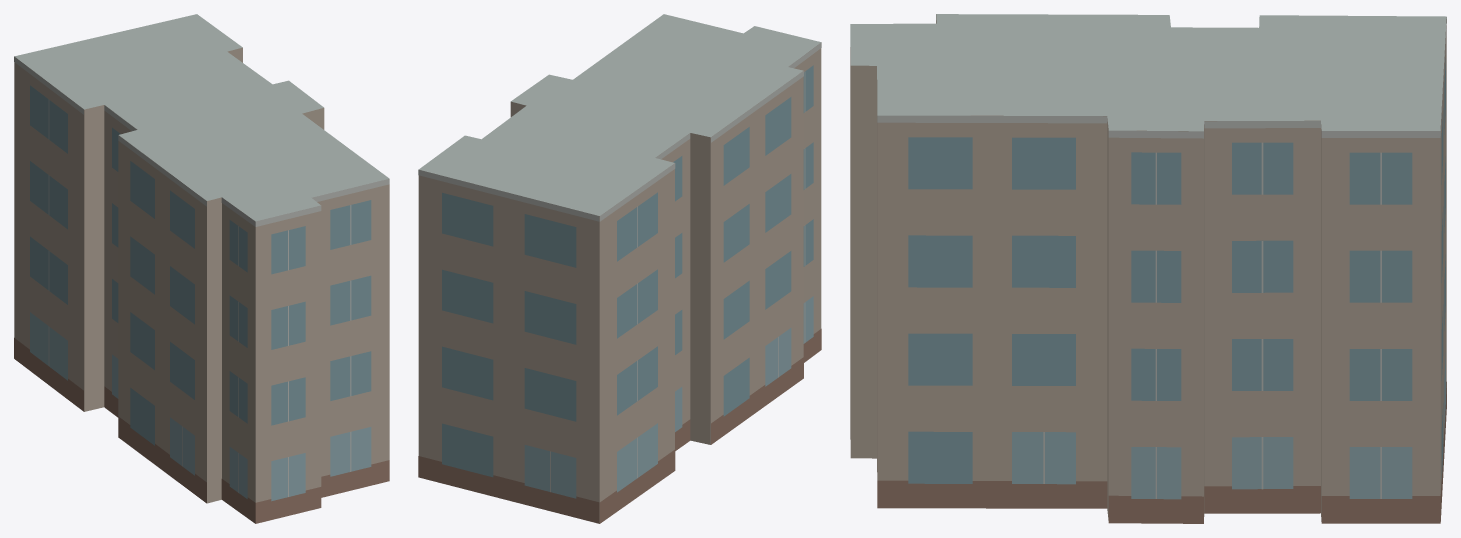
File: survey-upis-32966423.glb
3 renders of one model, left to right at view 1: azimuth 30°, elevation 25°; view 2: azimuth 150°, elevation 25°; view 3: azimuth 270°, elevation 25°, orthographic. The views are drawn at different scales.
Parts seen in each view (by area): view 1: survey-upis-32966423.tmp; view 2: survey-upis-32966423.tmp; view 3: survey-upis-32966423.tmp.
Boxes of the visible parts, <box> form: survey-upis-32966423.tmp: <box>14,14,389,523</box>; survey-upis-32966423.tmp: <box>418,14,821,523</box>; survey-upis-32966423.tmp: <box>850,14,1446,523</box>.
Bounding box in the file's own units: 8.46 × 13.2 × 18.18.
